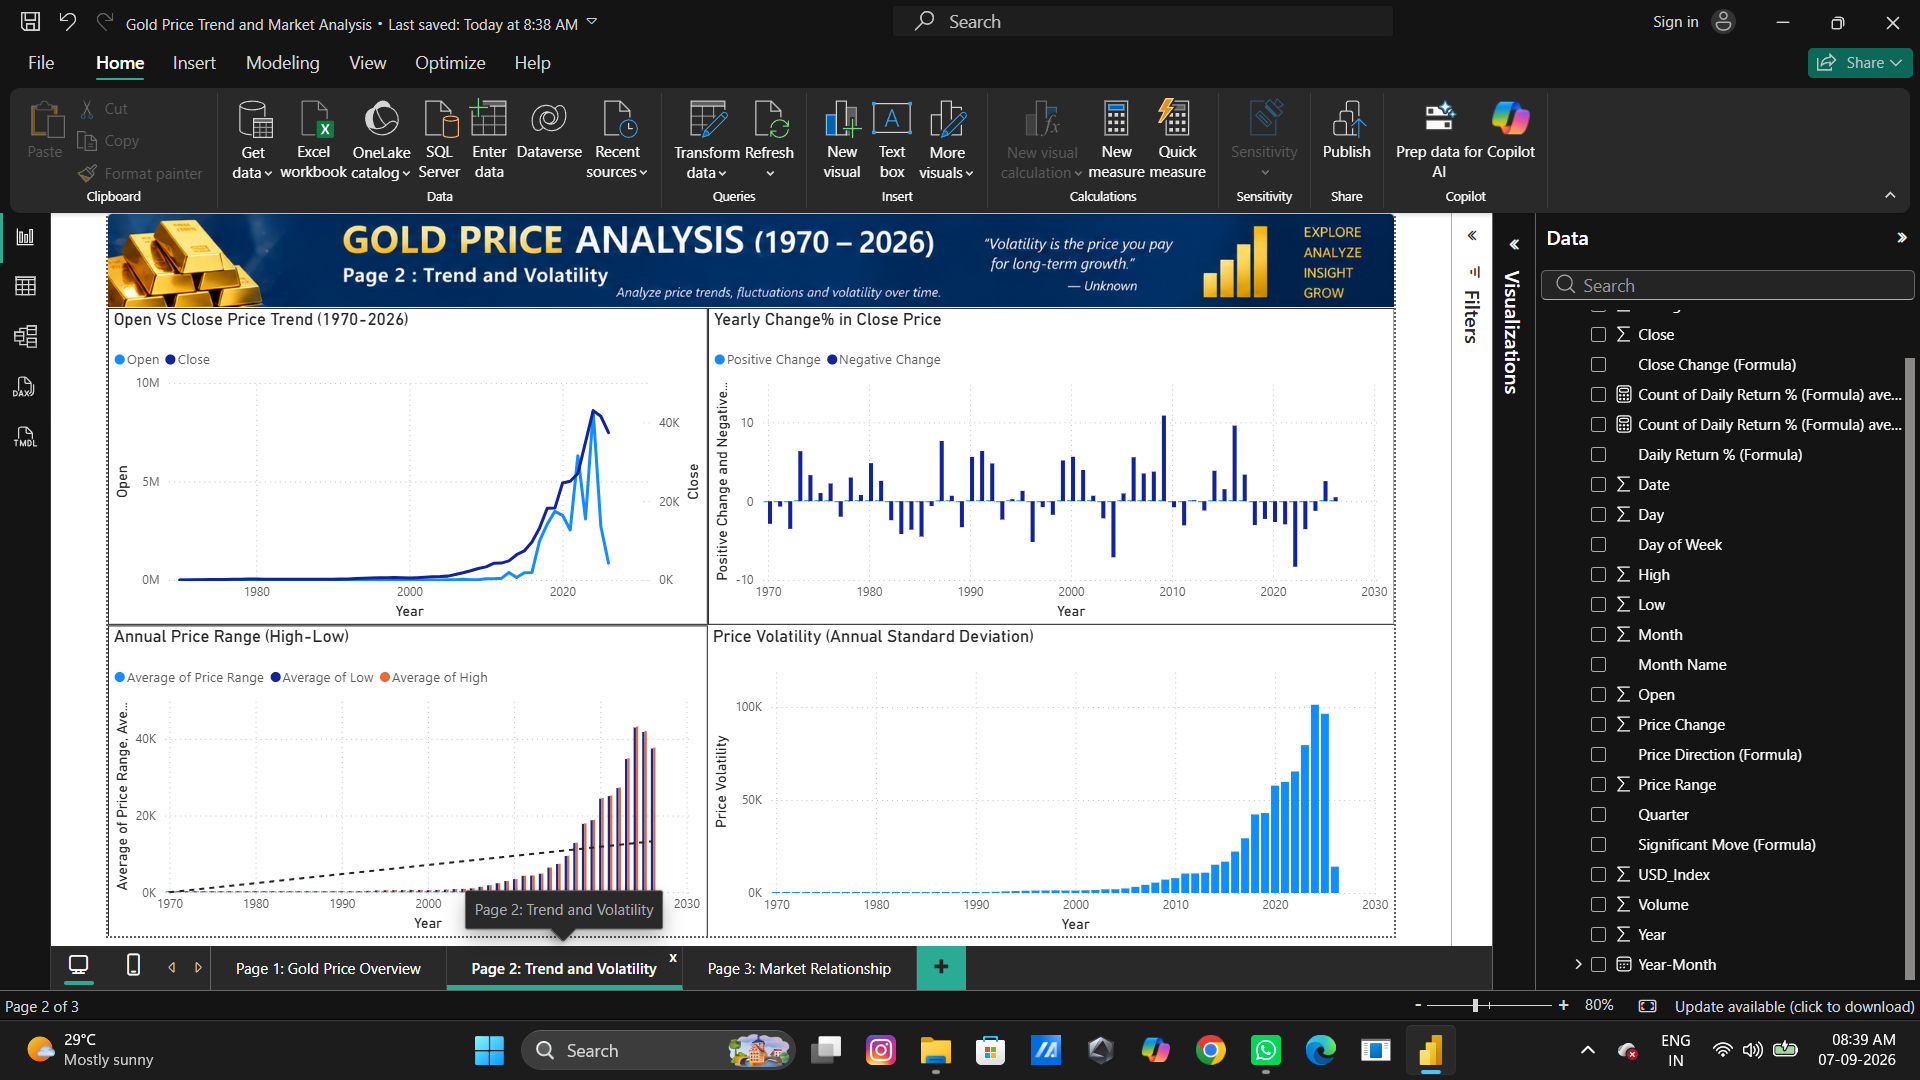

This screenshot's page, from the dashboard's own definition file:
{"tool":"powerbi","page":{"name":"Page 2: Trend and Volatility","canvas":[1280,720],"ordinal":1},"visuals":[{"type":"image","box":[0,0,1280,94.5],"z":0},{"type":"lineChart","title":"Open VS Close Price Trend (1970-2026)","fields":{"Category":["Cleaned Data.Year"],"Y":["Sum(Cleaned Data.Open)"],"Y2":["Median(Cleaned Data.Close)"]},"box":[0,94.6,596.8,315.5],"z":1000},{"type":"clusteredColumnChart","title":"Annual Price Range (High-Low)","fields":{"Category":["Cleaned Data.Year"],"Y":["Avg(Cleaned Data.Price Range)","Avg(Cleaned Data.Low)","Avg(Cleaned Data.High)"]},"box":[0,410.1,596.8,310.2],"z":2000},{"type":"clusteredColumnChart","title":"Yearly Change% in Close Price","fields":{"Category":["Cleaned Data.Year"],"Y":["Avg(Cleaned Data.Change %)","Sum(Cleaned Data.Change %)"]},"box":[596.8,94.6,683.5,315.5],"z":3000},{"type":"clusteredColumnChart","title":"Price Volatility (Annual Standard Deviation)","fields":{"Category":["Cleaned Data.Year"],"Y":["Sum(Cleaned Data.Price Range)"]},"box":[597,410,683,310],"z":4000}]}

Visuals, with their boxes on the page's 1280x720 design canvas (x1, y1, x2, y2). These are canvas units, not pixel positions in the 1920x1080 screenshot, which may show the page scaled, cropped or inside an application window:
image: detection(0, 0, 1280, 94)
"Open VS Close Price Trend (1970-2026)" lineChart: detection(0, 95, 597, 410)
"Annual Price Range (High-Low)" clusteredColumnChart: detection(0, 410, 597, 720)
"Yearly Change% in Close Price" clusteredColumnChart: detection(597, 95, 1280, 410)
"Price Volatility (Annual Standard Deviation)" clusteredColumnChart: detection(597, 410, 1280, 720)
